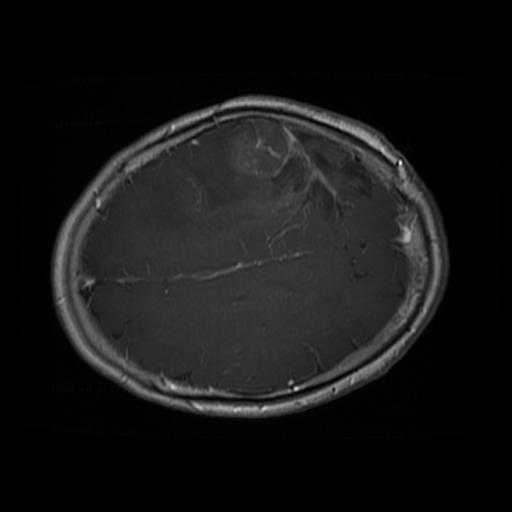glioma: (221, 118, 373, 242)
